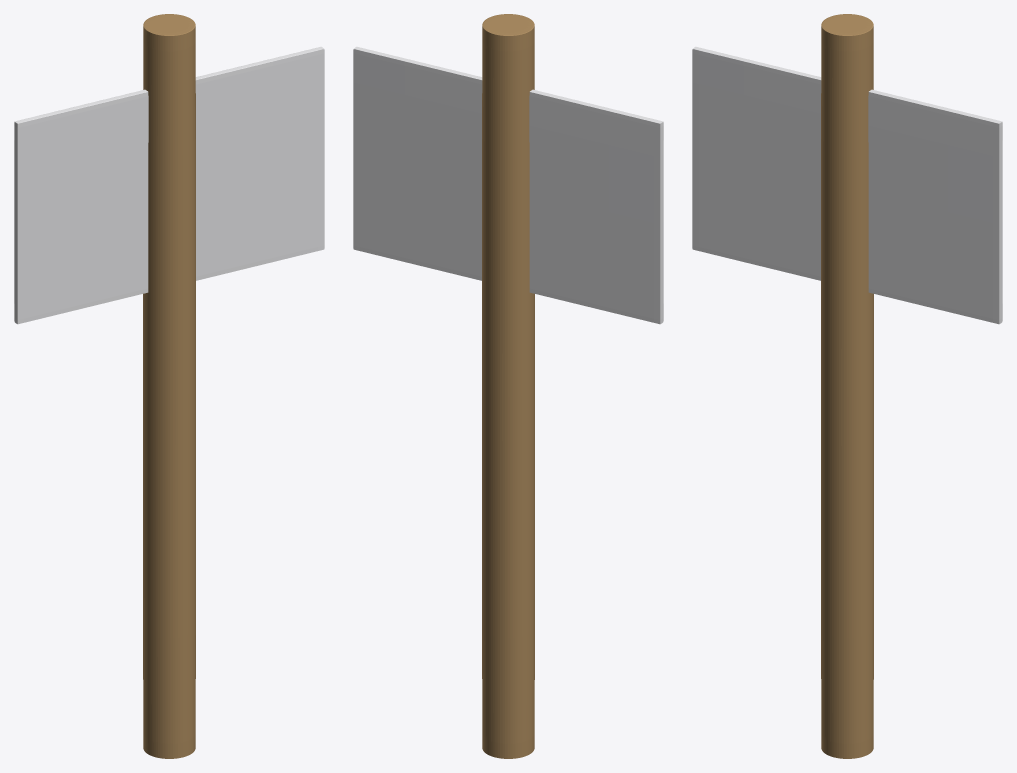
File: Landmark_PirateMast_Hi_083825.fbx
3 views of the same model, side by side, from view 1: azimuth 30°, elevation 25°; view 2: azimuth 150°, elevation 25°; view 3: azimuth 330°, elevation 25° (orthographic).
Parts seen in each view (by area): view 1: Cube, Cylinder; view 2: Cube, Cylinder; view 3: Cube, Cylinder.
Boxes of the visible parts, bbox=[...] form: Cube: bbox=[14, 46, 324, 324]; Cylinder: bbox=[143, 14, 195, 758]; Cube: bbox=[353, 46, 663, 324]; Cylinder: bbox=[482, 14, 534, 758]; Cube: bbox=[692, 46, 1002, 324]; Cylinder: bbox=[821, 14, 873, 758].
Size of the model in its own units: 8 by 18 by 1.19.
